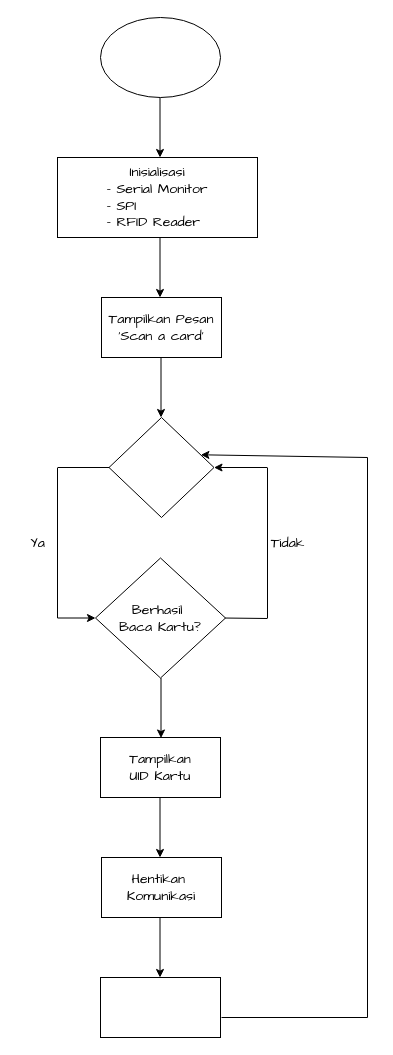
This 393x1055 diagram has some shape labels left out. Each missing label, with the box of its shape:
Ada Kartu?: (108, 416, 214, 518)
Menunggu Kartu Baru: (100, 976, 220, 1038)
Mulai: (100, 16, 220, 98)
